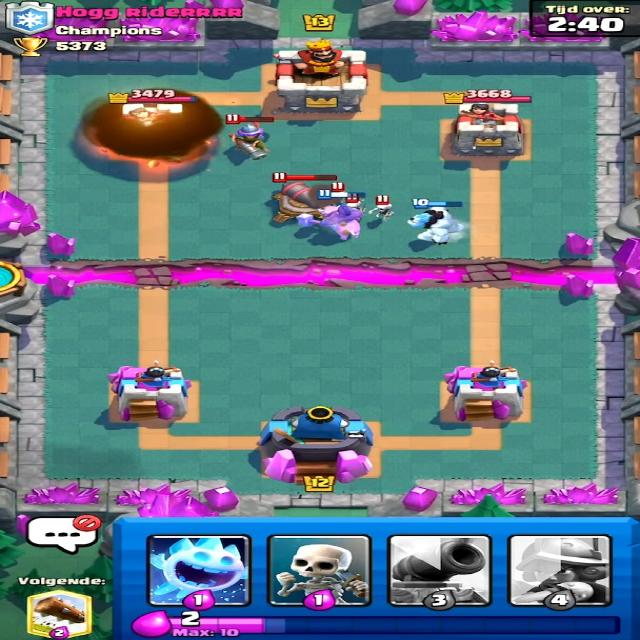Cannon_Card: (390, 538, 492, 605)
Enemy_Cannon_Troop: (268, 179, 328, 221)
Enemy_Musketeer_Troop: (226, 119, 270, 162)
Enemy_Skeleton_Troop: (366, 200, 399, 222)
Hog_Rider_Troop: (296, 202, 356, 240)
Ice_Golem_Troop: (404, 202, 466, 250)
Ice_Spirit_Card: (137, 535, 259, 608)
Musketeer_Card: (510, 532, 610, 608)
Skeleton_Card: (274, 540, 372, 604)
